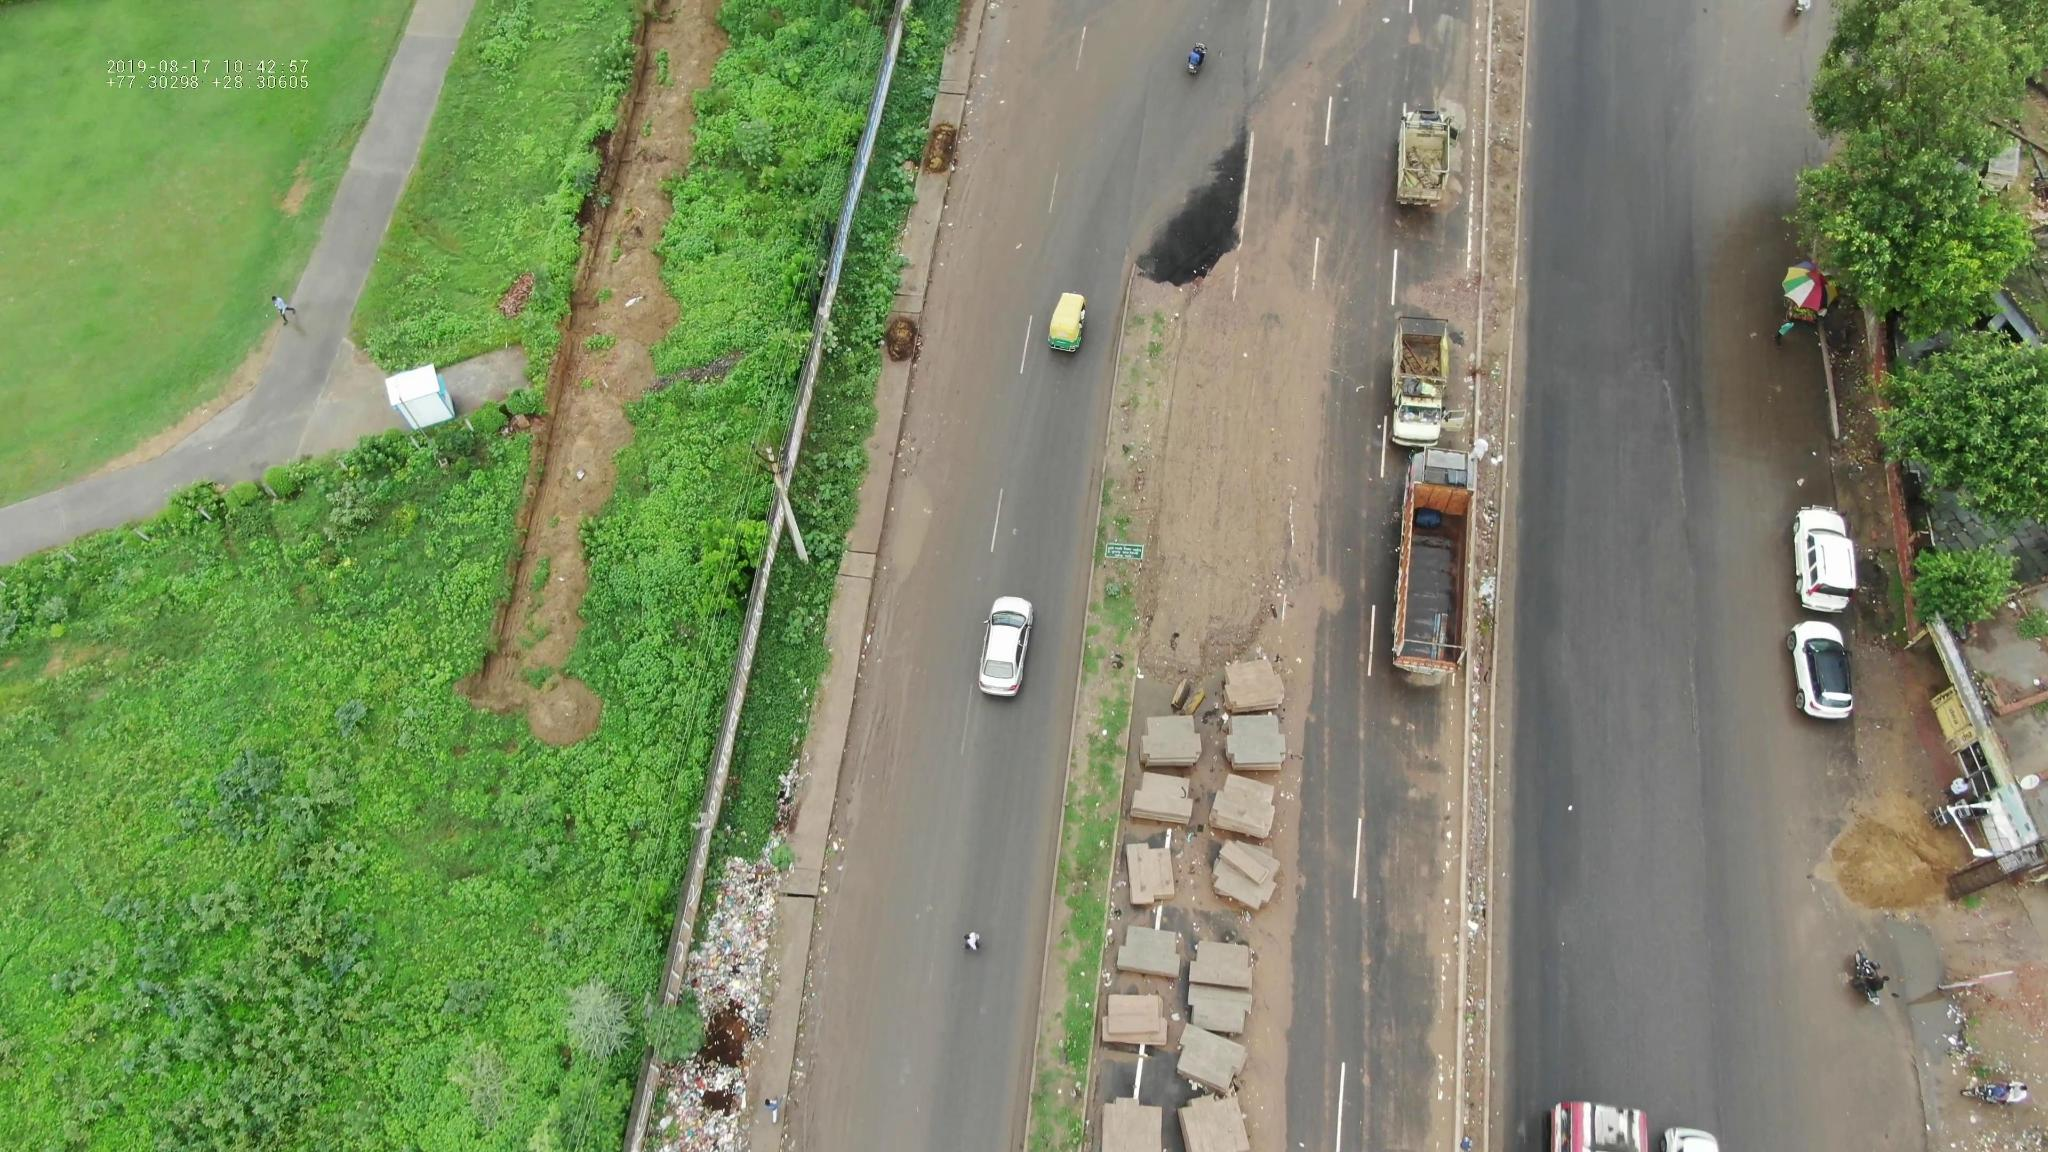Muddy_road: (878, 338, 971, 526), (847, 563, 920, 788)
Road_side_garbage: (672, 864, 789, 1141)
